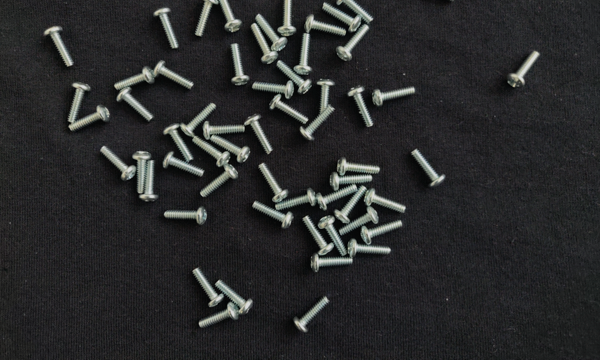shortscrew: (116, 87, 155, 124), (412, 149, 446, 190), (293, 297, 330, 334), (201, 164, 239, 200), (44, 25, 75, 69), (180, 103, 217, 139), (333, 186, 368, 224), (303, 216, 336, 256), (154, 60, 196, 91), (277, 60, 313, 96), (100, 147, 137, 182), (216, 281, 254, 315), (258, 163, 289, 204), (299, 106, 335, 141), (506, 51, 540, 88), (336, 24, 369, 62), (193, 268, 224, 308), (252, 201, 294, 230), (257, 14, 288, 53), (275, 188, 318, 216), (269, 94, 309, 124), (163, 123, 193, 163), (340, 207, 380, 237), (245, 114, 274, 155), (68, 106, 112, 133), (365, 188, 409, 215), (193, 137, 231, 168), (323, 2, 362, 32), (162, 152, 205, 179), (348, 85, 374, 129), (212, 135, 251, 164), (317, 184, 358, 211), (252, 23, 278, 65), (361, 219, 403, 245), (199, 302, 240, 328), (67, 82, 91, 125), (337, 156, 384, 177), (154, 8, 178, 49), (305, 15, 347, 37), (115, 67, 155, 90), (194, 0, 218, 38), (330, 171, 373, 192), (372, 86, 415, 106), (165, 207, 208, 227), (231, 44, 251, 87), (336, 0, 373, 23), (140, 161, 160, 203), (218, 0, 243, 33), (293, 34, 313, 75), (133, 151, 152, 194), (310, 254, 353, 273), (203, 121, 246, 140), (252, 81, 294, 100), (347, 239, 391, 257), (278, 0, 296, 37), (318, 79, 336, 115), (415, 0, 459, 4)
